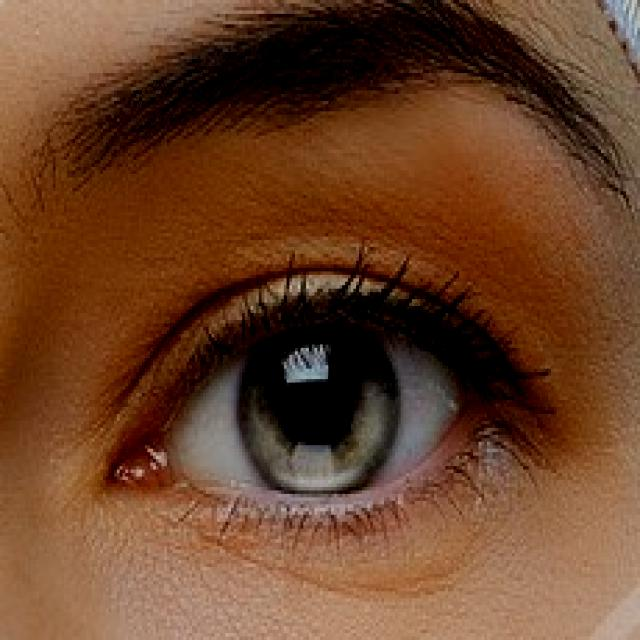Normal: (36, 223, 570, 583)
